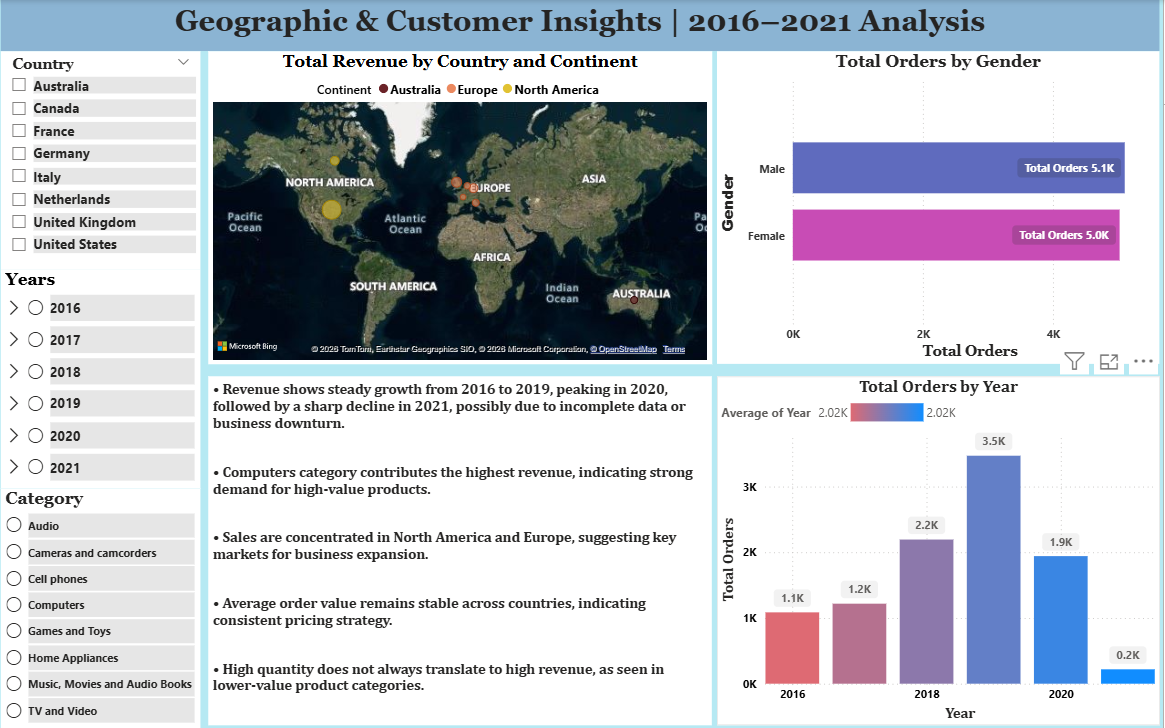

Layout of this report page (visuals, bound fields, positions):
{"tool":"powerbi","page":{"name":"Page 2","canvas":[1280,800],"ordinal":1},"visuals":[{"type":"map","fields":{"Size":["Sales.Total Revenue"],"Category":["Stores.Country"],"Series":["Customers data.Continent"]},"box":[231.9,56.3,553,343.1],"z":0},{"type":"barChart","fields":{"Category":["Customers data.Gender"],"Y":["Sales.Total Orders"]},"box":[790.4,56.3,485.8,343.1],"z":1000},{"type":"columnChart","fields":{"Category":["Sales.Order Date.Variation.Date Hierarchy.Year"],"Y":["Sales.Total Orders"]},"box":[790.4,413,485.8,382.8],"z":2000},{"type":"slicer","fields":{"Values":["Customers data.Country"]},"box":[4.1,56.3,219.6,240.1],"z":3000},{"type":"listSlicer","fields":{"Values":["Products.Category"]},"box":[4.1,536.5,219.6,263.5],"z":4000},{"type":"listSlicer","title":"Years","fields":{"Values":["Sales.Order Date.Variation.Date Hierarchy.Year","Sales.Order Date.Variation.Date Hierarchy.Day"]},"box":[4.1,296.4,219.6,240.1],"z":5000},{"type":"textbox","box":[231.9,413,553,382.8],"z":6000},{"type":"textbox","box":[4.1,0,1272,56.3],"z":7000}]}

Visuals, with their boxes in screenshot pixels (x1, y1, x2, y2), scaled from the page's 1280x800 canvas onto the 1165x728 screenshot:
map - Sales.Total Revenue x Stores.Country: bbox=[211, 51, 714, 363]
barChart - Customers data.Gender x Sales.Total Orders: bbox=[719, 51, 1162, 363]
columnChart - Sales.Order Date.Variation.Date Hierarchy.Year x Sales.Total Orders: bbox=[719, 376, 1162, 724]
slicer - Customers data.Country: bbox=[4, 51, 204, 270]
listSlicer - Products.Category: bbox=[4, 488, 204, 727]
"Years" listSlicer: bbox=[4, 270, 204, 488]
textbox: bbox=[211, 376, 714, 724]
textbox: bbox=[4, 0, 1161, 51]
